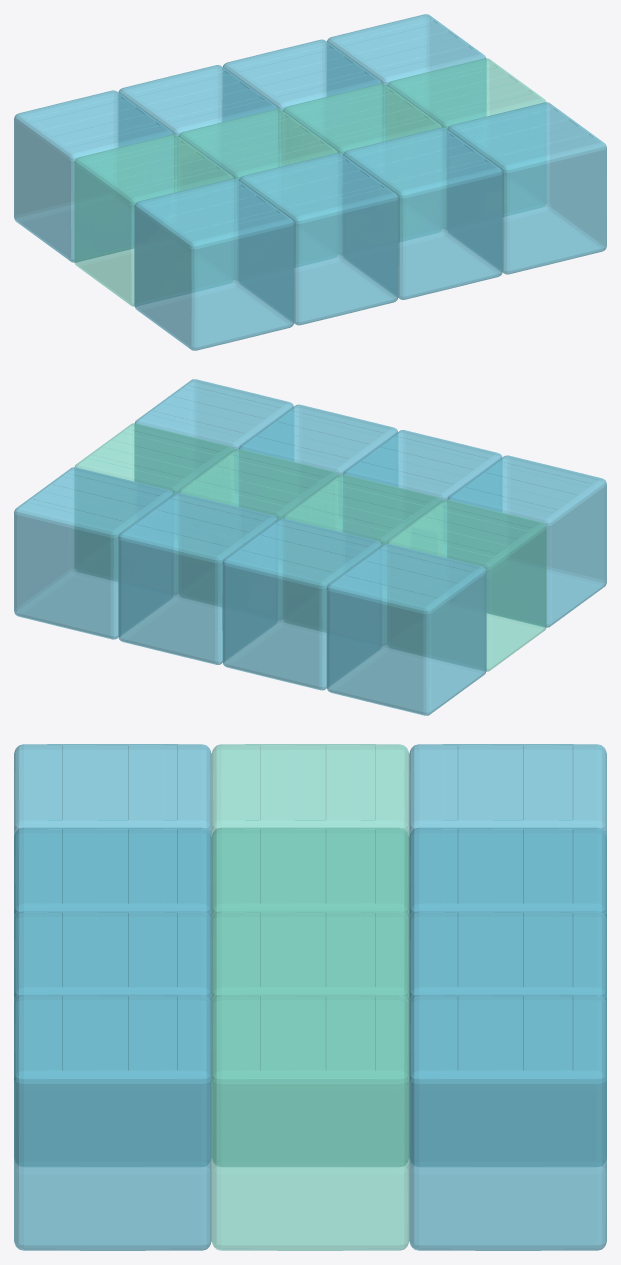
Rendered from ice 4x3_2.fbx.
3 renders of one model, top to bottom at view 1: azimuth 30°, elevation 25°; view 2: azimuth 150°, elevation 25°; view 3: azimuth 270°, elevation 25°, orthographic. The views are drawn at different scales.
Parts seen in each view (by area): view 1: Cube.003, Cube.010, Cube.004; view 2: Cube.010, Cube.003, Cube.004; view 3: Cube.004, Cube.003, Cube.010.
Boxes of the visible parts, <box> form: Cube.003: <box>134,102,606,350</box>; Cube.010: <box>14,14,486,262</box>; Cube.004: <box>74,58,545,306</box>; Cube.010: <box>14,467,486,715</box>; Cube.003: <box>134,379,606,627</box>; Cube.004: <box>75,423,546,671</box>; Cube.004: <box>211,744,409,1250</box>; Cube.003: <box>14,744,211,1250</box>; Cube.010: <box>409,744,606,1250</box>.
Bounding box in the file's own units: 1600 × 400 × 1200.
